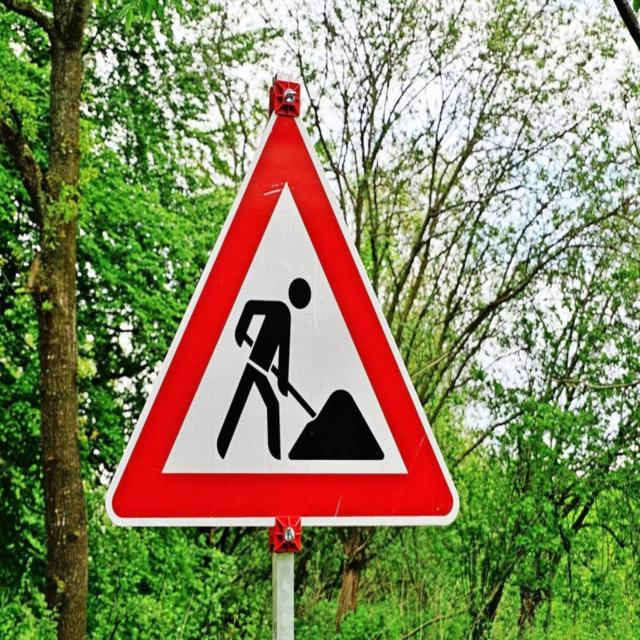WORKERS: (106, 79, 458, 525)
